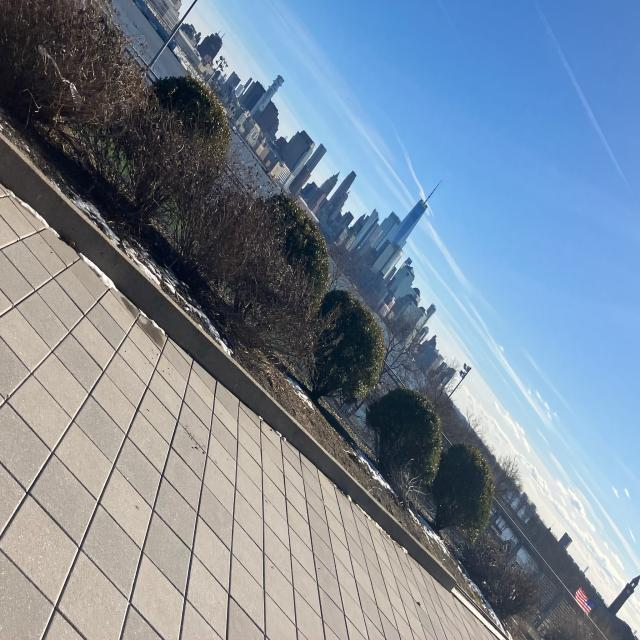WTC: (389, 175, 446, 247)
